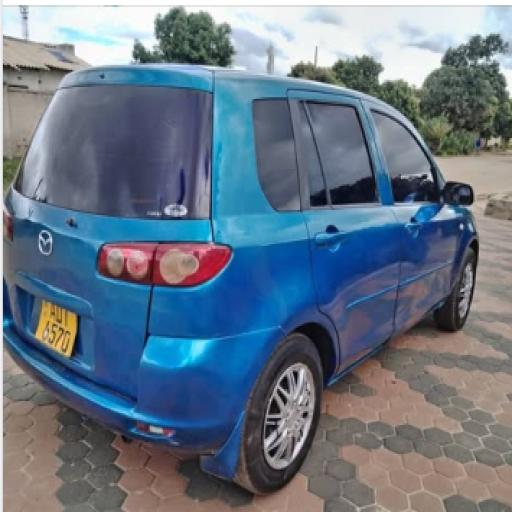number-plates: (38, 294, 72, 355)
